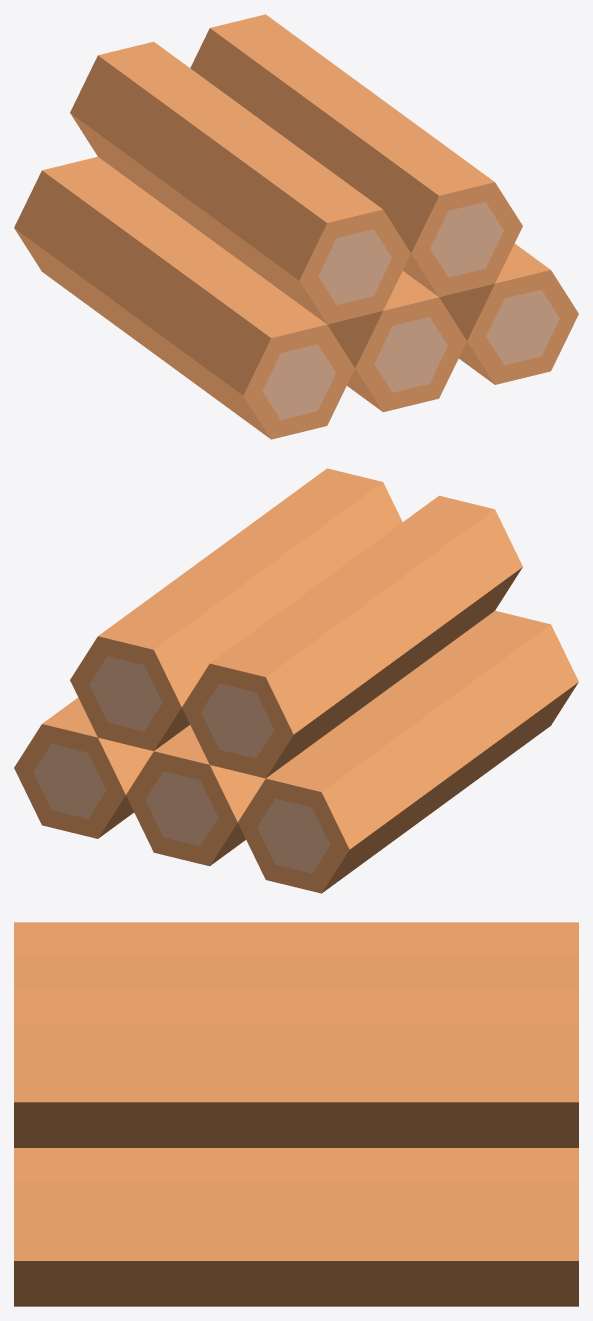
File: logs_stackLarge.fbx
The picture shows the model from 3 angles, top to bottom: view 1: azimuth 30°, elevation 25°; view 2: azimuth 150°, elevation 25°; view 3: azimuth 270°, elevation 25°; orthographic projection. The views are drawn at different scales.
Parts seen in each view (by area): view 1: logs_stackLarge; view 2: logs_stackLarge; view 3: logs_stackLarge.
Boxes of the visible parts, x1=… form: logs_stackLarge: x1=14, y1=14, x2=578, y2=439; logs_stackLarge: x1=14, y1=468, x2=578, y2=893; logs_stackLarge: x1=14, y1=922, x2=578, y2=1306.
Bounding box in the file's own units: 6 × 3.46 × 7.1.
